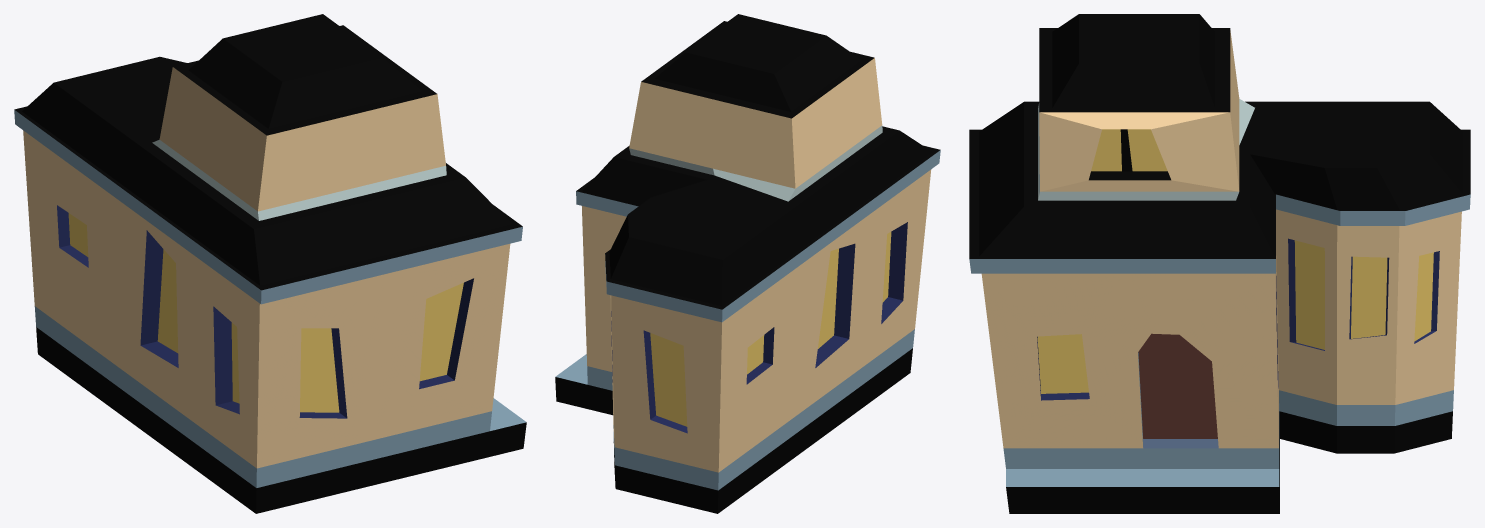
The model's file is house3.glb.
The picture shows the model from 3 angles, left to right: view 1: azimuth 30°, elevation 25°; view 2: azimuth 150°, elevation 25°; view 3: azimuth 270°, elevation 25°; orthographic projection. The views are drawn at different scales.
Parts seen in each view (by area): view 1: House3; view 2: House3; view 3: House3.
Part boxes in pixels (bbox=[...]): House3: bbox=[14, 14, 526, 513]; House3: bbox=[555, 14, 940, 513]; House3: bbox=[969, 14, 1470, 513].
Size of the model in its own units: 2.46 by 3.25 by 3.71.
Materials: 1 (1 with a texture image).
